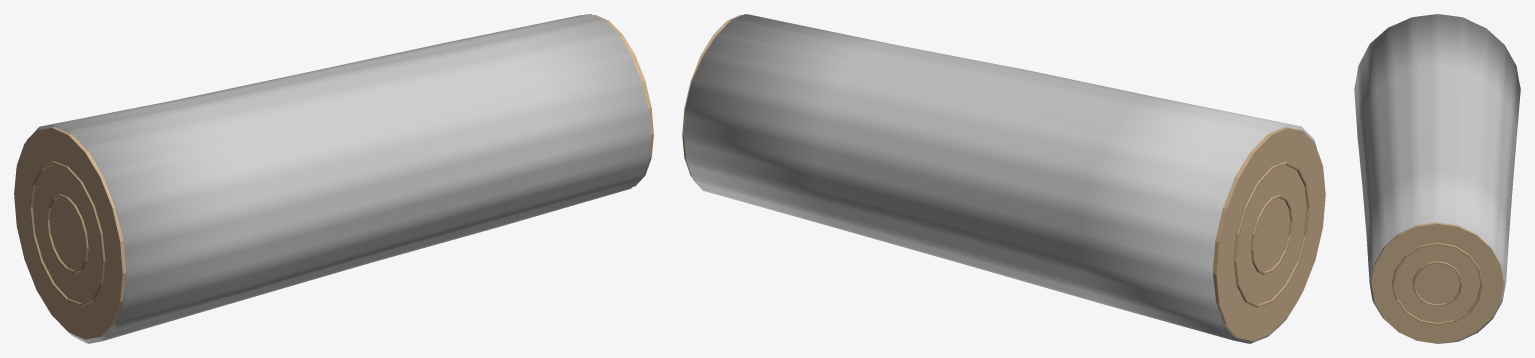
File: bl_fallen_log.gltf
3 views of the same model, side by side, from view 1: azimuth 30°, elevation 25°; view 2: azimuth 150°, elevation 25°; view 3: azimuth 270°, elevation 25° (orthographic). The views are drawn at different scales.
Parts seen in each view (by area): view 1: log, cut, ring.001, cut.001, ring; view 2: log, cut, ring.001, ring; view 3: log, cut.001, ring.003, ring.002.
Part boxes in pixels (<box>): log: <box>26,14,651,343</box>; cut: <box>14,127,125,339</box>; ring.001: <box>30,161,105,306</box>; cut.001: <box>594,15,653,186</box>; ring: <box>46,194,88,273</box>; log: <box>684,14,1316,343</box>; cut: <box>1213,127,1325,341</box>; ring.001: <box>1234,161,1309,307</box>; ring: <box>1250,194,1292,274</box>; log: <box>1354,14,1520,343</box>; cut.001: <box>1371,222,1503,343</box>; ring.003: <box>1392,242,1482,325</box>; ring.002: <box>1412,261,1462,306</box>.
Size of the model in its own units: 2.24 by 0.8019 by 0.8011.
